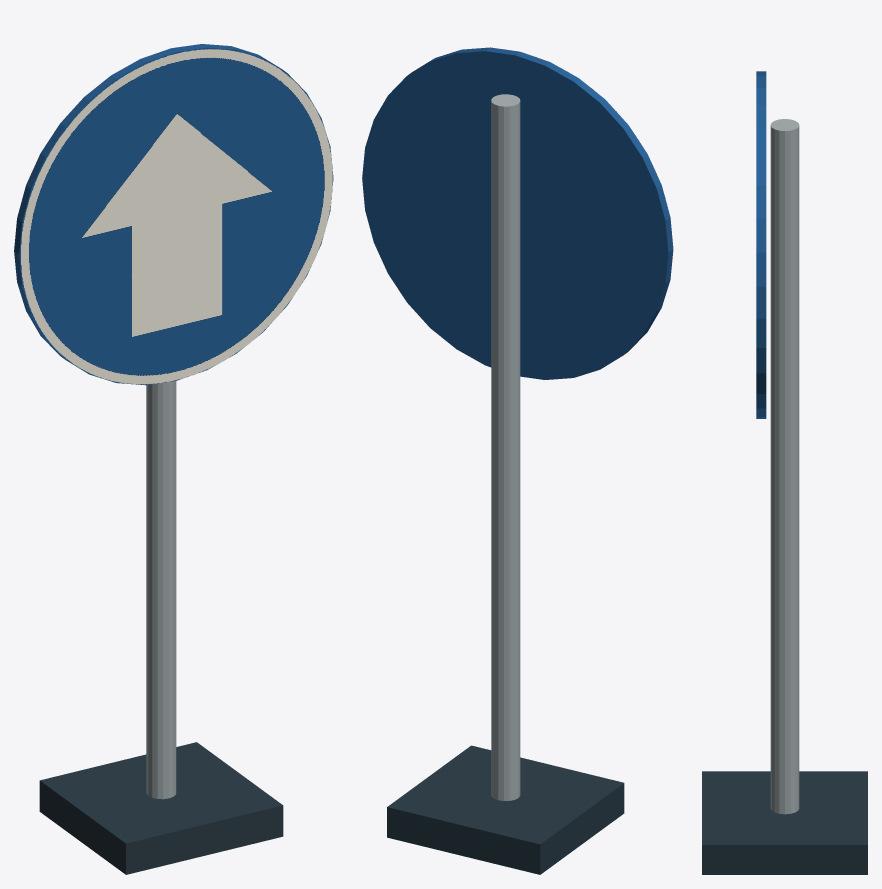
Rendered from scendance-plan-straight.glb.
The picture shows the model from 3 angles, left to right: view 1: azimuth 30°, elevation 25°; view 2: azimuth 150°, elevation 25°; view 3: azimuth 270°, elevation 25°; orthographic projection. The views are drawn at different scales.
Bounding box in the file's own units: 0.84 × 2 × 0.4.
Materials: 4 (1 with a texture image).
